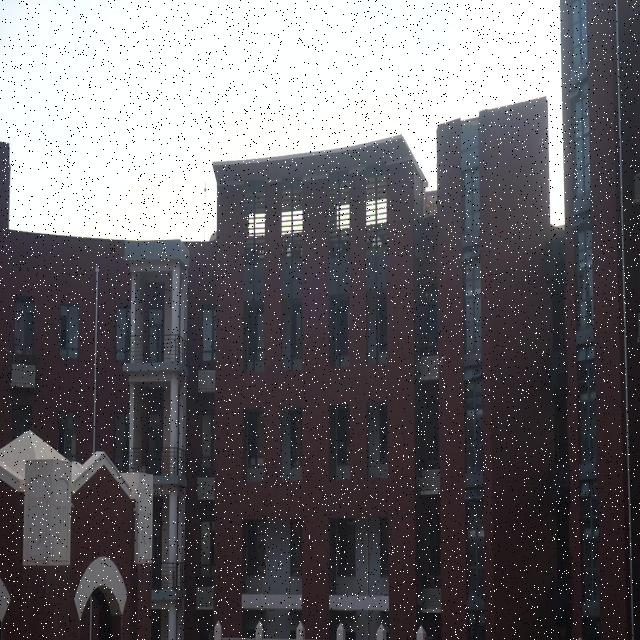UAV: (437, 356, 446, 366)
